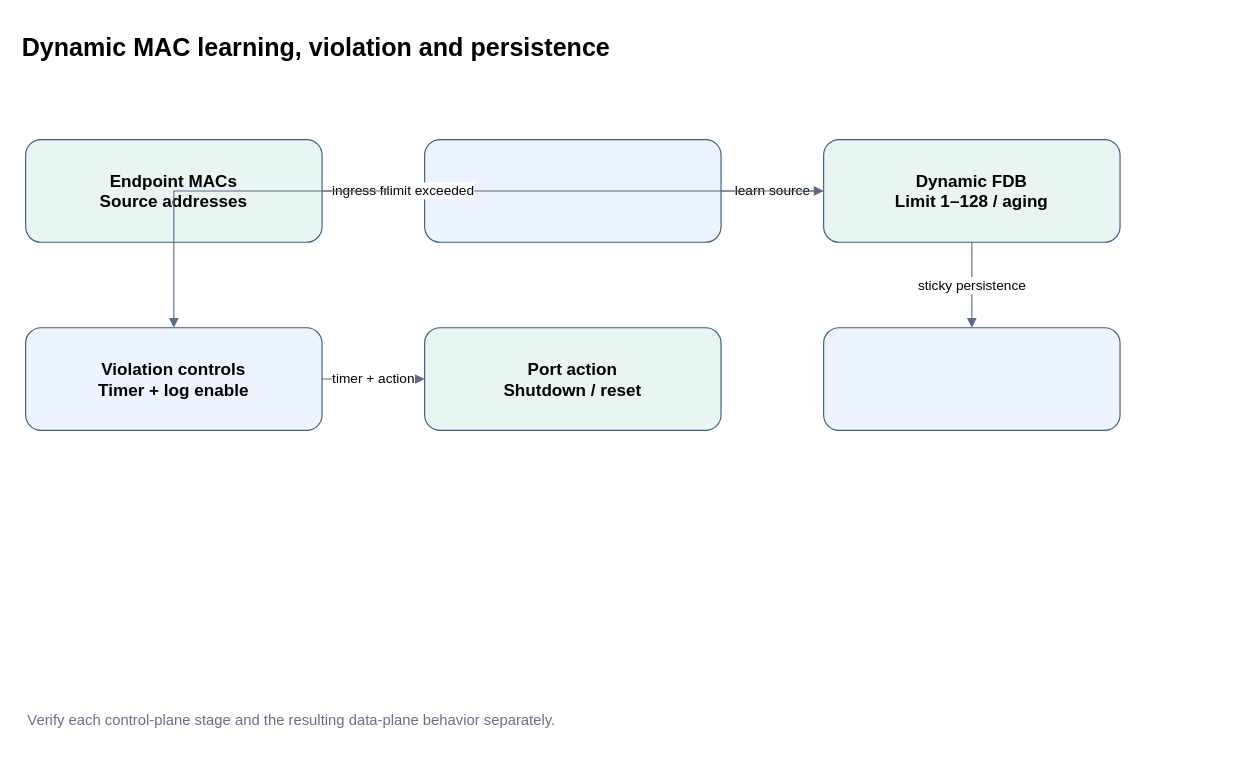
The diagram is 1241 pixels wide and 757 high, and some of its shapes have lost their labels. Here are the shapes that lost their labels. From the top down, the centre of each, then its label:
At (572,190): "Physical port / VLAN Learning enabled".
At (971,378): "Sticky MAC store Link flap / saved reboot state".
